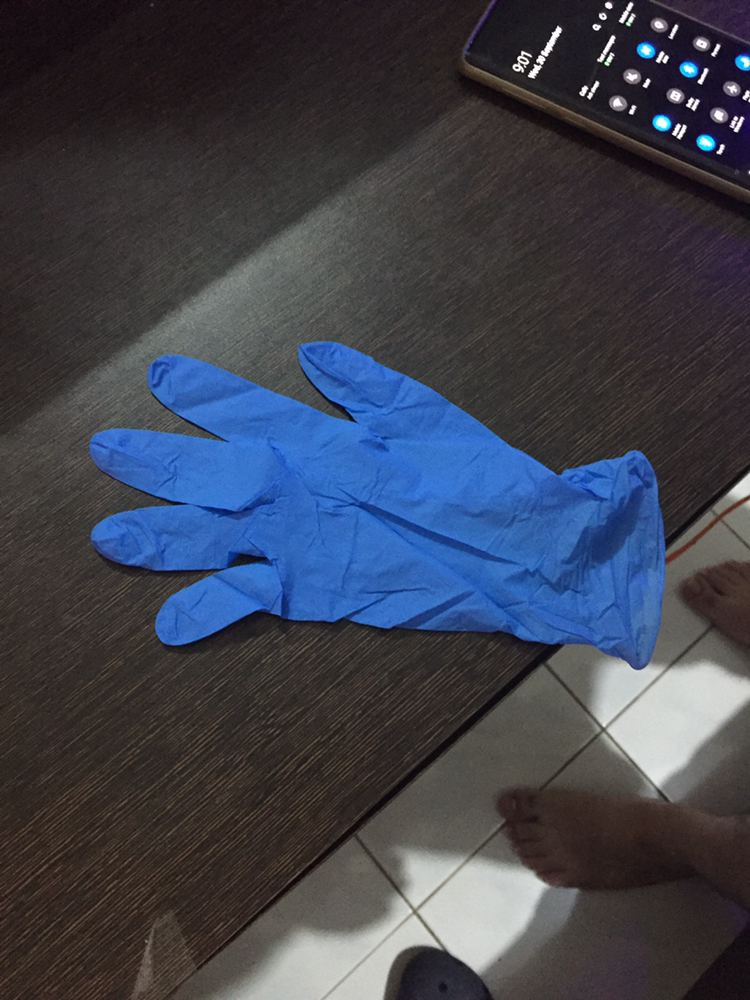glove: (67, 306, 621, 710)
